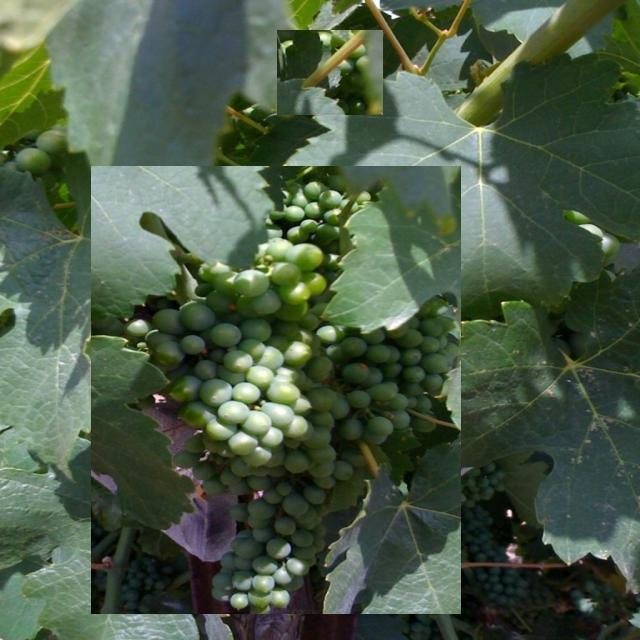Grape: (91, 166, 461, 614), (374, 453, 638, 636), (530, 211, 623, 357), (277, 30, 383, 115), (2, 129, 68, 189)
